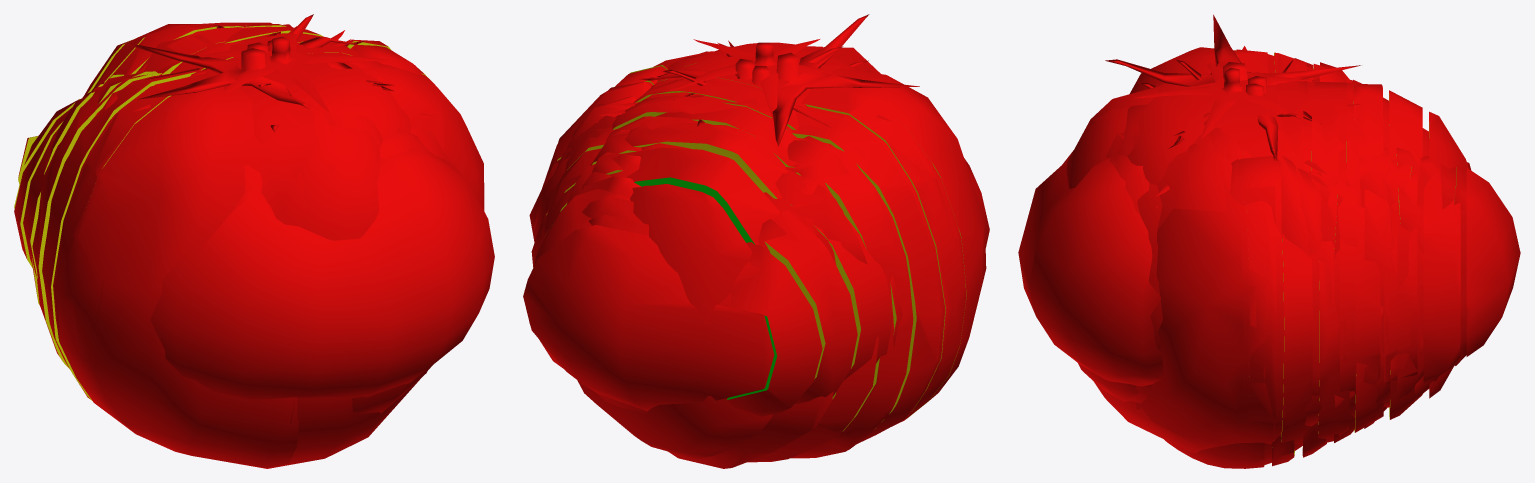
File: tomatoes_grp.fbx
3 renders of one model, left to right at view 1: azimuth 30°, elevation 25°; view 2: azimuth 150°, elevation 25°; view 3: azimuth 270°, elevation 25°, orthographic. The views are drawn at different scales.
Parts seen in each view (by area): view 1: tomato_c4_slice_1, tomato_a7_slice_1, tomato_c4_mesh, tomato_a7_mesh, tomato_b5_mesh, tomato_c4_slice_3, tomato_c4_slice_2, tomato_b5_slice_1, tomato_c4_slice_4, tomato_c4_slice_5, tomato_a2_mesh, tomato_a2_slice_1 (+10 smaller); view 2: tomato_a7_slice_7, tomato_c4_slice_7, tomato_c4_slice_3, tomato_c4_slice_4, tomato_a7_slice_6, tomato_c4_mesh, tomato_c4_slice_5, tomato_c4_slice_6, tomato_c4_slice_1, tomato_a7_slice_5, tomato_c4_slice_2, tomato_a7_slice_4 (+22 smaller); view 3: tomato_a7_mesh, tomato_c4_slice_1, tomato_c4_mesh, tomato_a7_slice_7, tomato_a7_slice_6, tomato_c4_slice_3, tomato_c4_slice_2, tomato_b5_mesh, tomato_b5_slice_1, tomato_c4_slice_4, tomato_b7_slice_5, tomato_c4_slice_5 (+30 smaller).
Part boxes in pixels (left/top/right/bottom): tomato_c4_slice_1: left=74, top=72, right=484, bottom=468; tomato_a7_slice_1: left=150, top=158, right=452, bottom=400; tomato_c4_mesh: left=50, top=28, right=444, bottom=468; tomato_a7_mesh: left=320, top=135, right=494, bottom=396; tomato_b5_mesh: left=198, top=26, right=411, bottom=143; tomato_c4_slice_3: left=42, top=41, right=243, bottom=400; tomato_c4_slice_2: left=54, top=67, right=427, bottom=393; tomato_b5_slice_1: left=298, top=55, right=408, bottom=140; tomato_c4_slice_4: left=36, top=26, right=271, bottom=368; tomato_c4_slice_5: left=30, top=22, right=272, bottom=304; tomato_a2_mesh: left=133, top=39, right=443, bottom=413; tomato_a2_slice_1: left=352, top=57, right=434, bottom=414; tomato_a7_slice_7: left=523, top=225, right=774, bottom=411; tomato_c4_slice_7: left=577, top=184, right=772, bottom=459; tomato_c4_slice_3: left=542, top=98, right=941, bottom=443; tomato_c4_slice_4: left=529, top=108, right=912, bottom=458; tomato_a7_slice_6: left=534, top=189, right=822, bottom=416; tomato_c4_mesh: left=653, top=14, right=982, bottom=426; tomato_c4_slice_5: left=624, top=122, right=879, bottom=462; tomato_c4_slice_6: left=619, top=147, right=833, bottom=468; tomato_c4_slice_1: left=812, top=47, right=986, bottom=417; tomato_a7_slice_5: left=542, top=171, right=857, bottom=404; tomato_c4_slice_2: left=558, top=70, right=956, bottom=411; tomato_a7_slice_4: left=533, top=155, right=893, bottom=379; tomato_a7_mesh: left=1024, top=157, right=1423, bottom=395; tomato_c4_slice_1: left=1089, top=47, right=1243, bottom=448; tomato_c4_mesh: left=1066, top=14, right=1389, bottom=452; tomato_a7_slice_7: left=1466, top=162, right=1520, bottom=356; tomato_a7_slice_6: left=1423, top=129, right=1460, bottom=383; tomato_c4_slice_3: left=1274, top=52, right=1312, bottom=445; tomato_c4_slice_2: left=1236, top=49, right=1277, bottom=441; tomato_b5_mesh: left=1132, top=63, right=1315, bottom=468; tomato_b5_slice_1: left=1127, top=95, right=1237, bottom=468; tomato_c4_slice_4: left=1313, top=64, right=1349, bottom=442; tomato_b7_slice_5: left=1355, top=206, right=1380, bottom=398; tomato_c4_slice_5: left=1353, top=79, right=1383, bottom=432.
Bounding box in the file's own units: 15.65 × 14.17 × 17.54.
